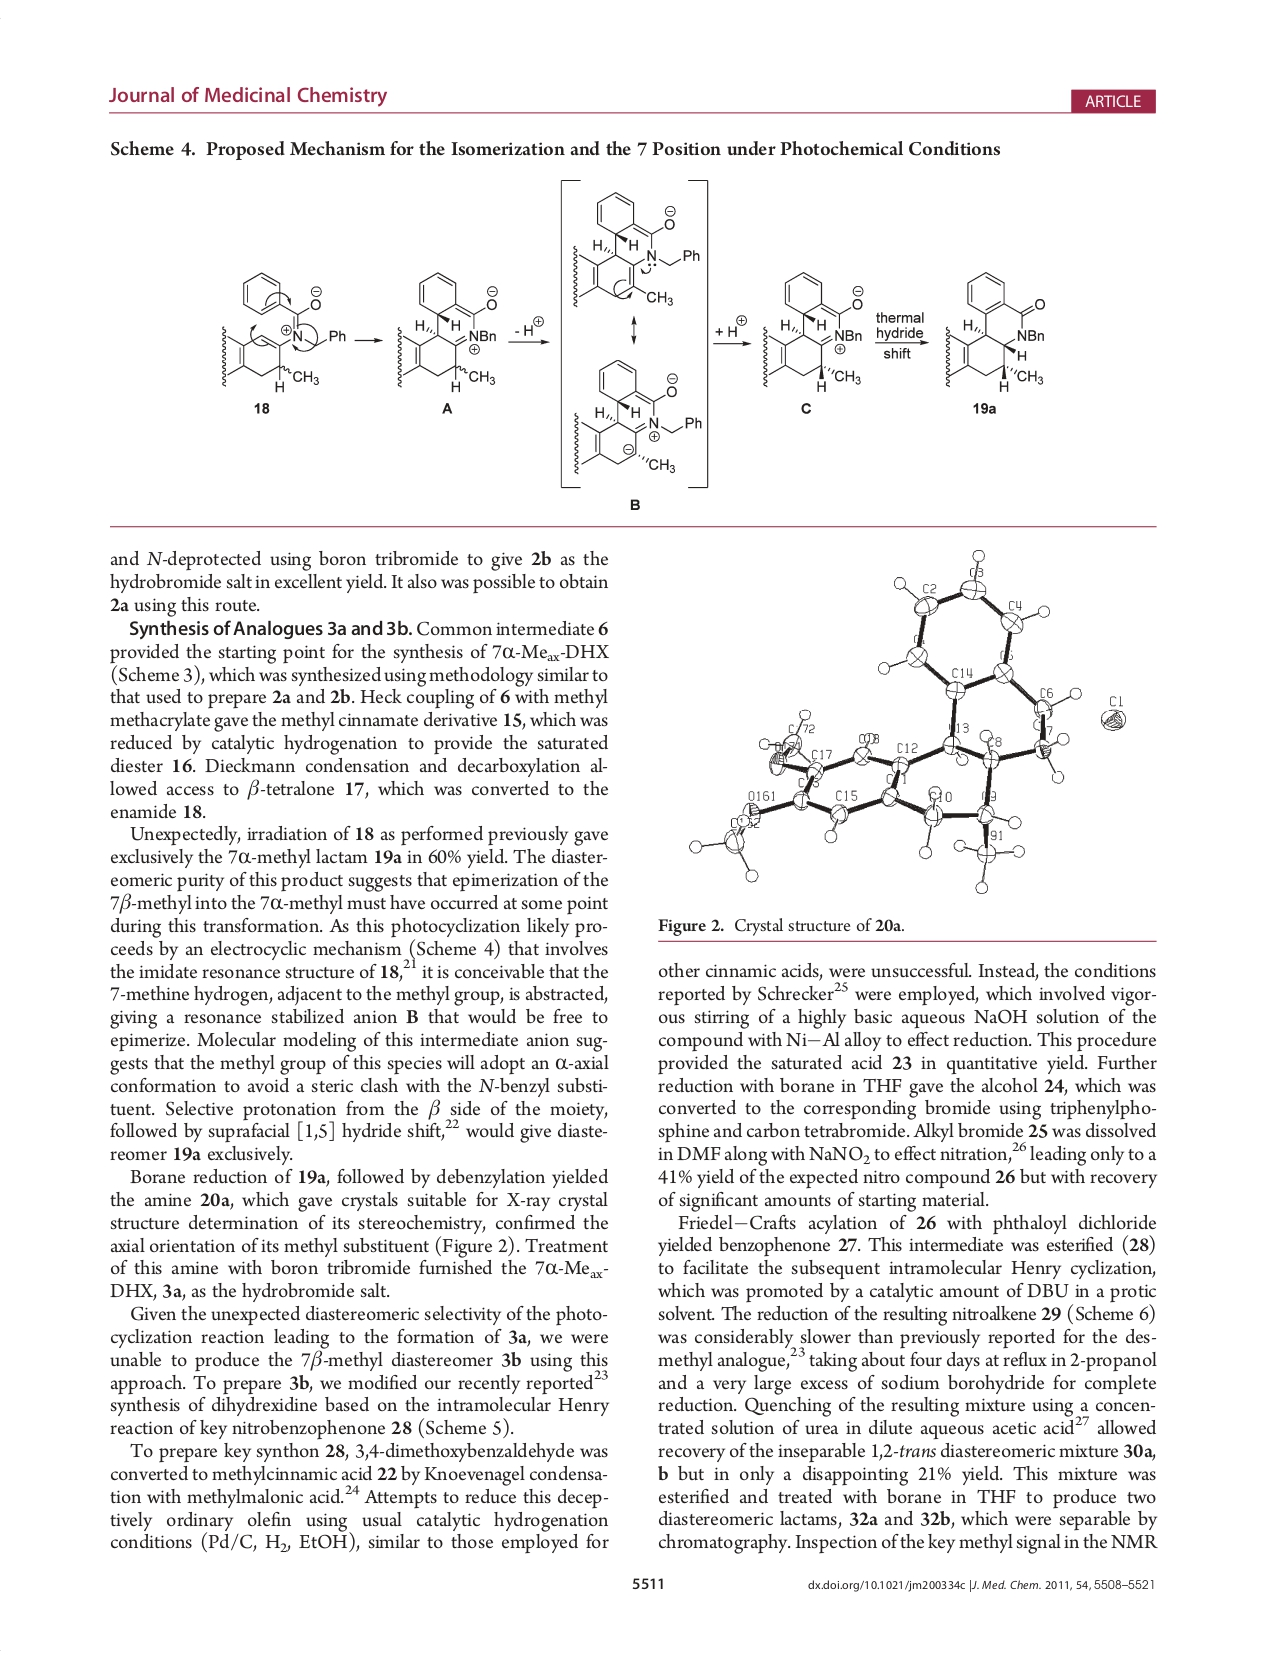exist_molecular: (218, 270, 348, 394), (572, 355, 703, 475), (570, 189, 701, 309), (940, 267, 1051, 394), (395, 266, 501, 395), (761, 267, 868, 394)
